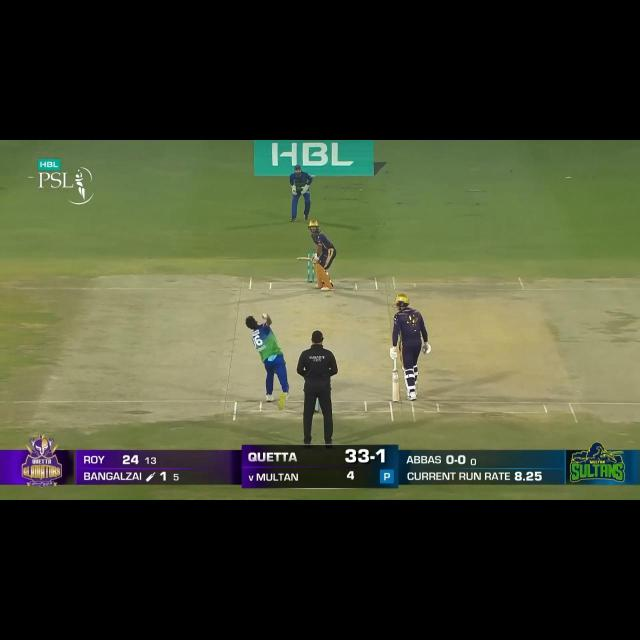bat: (389, 370, 402, 402), (297, 257, 313, 262)
toe: (392, 397, 400, 402), (296, 257, 300, 261)
